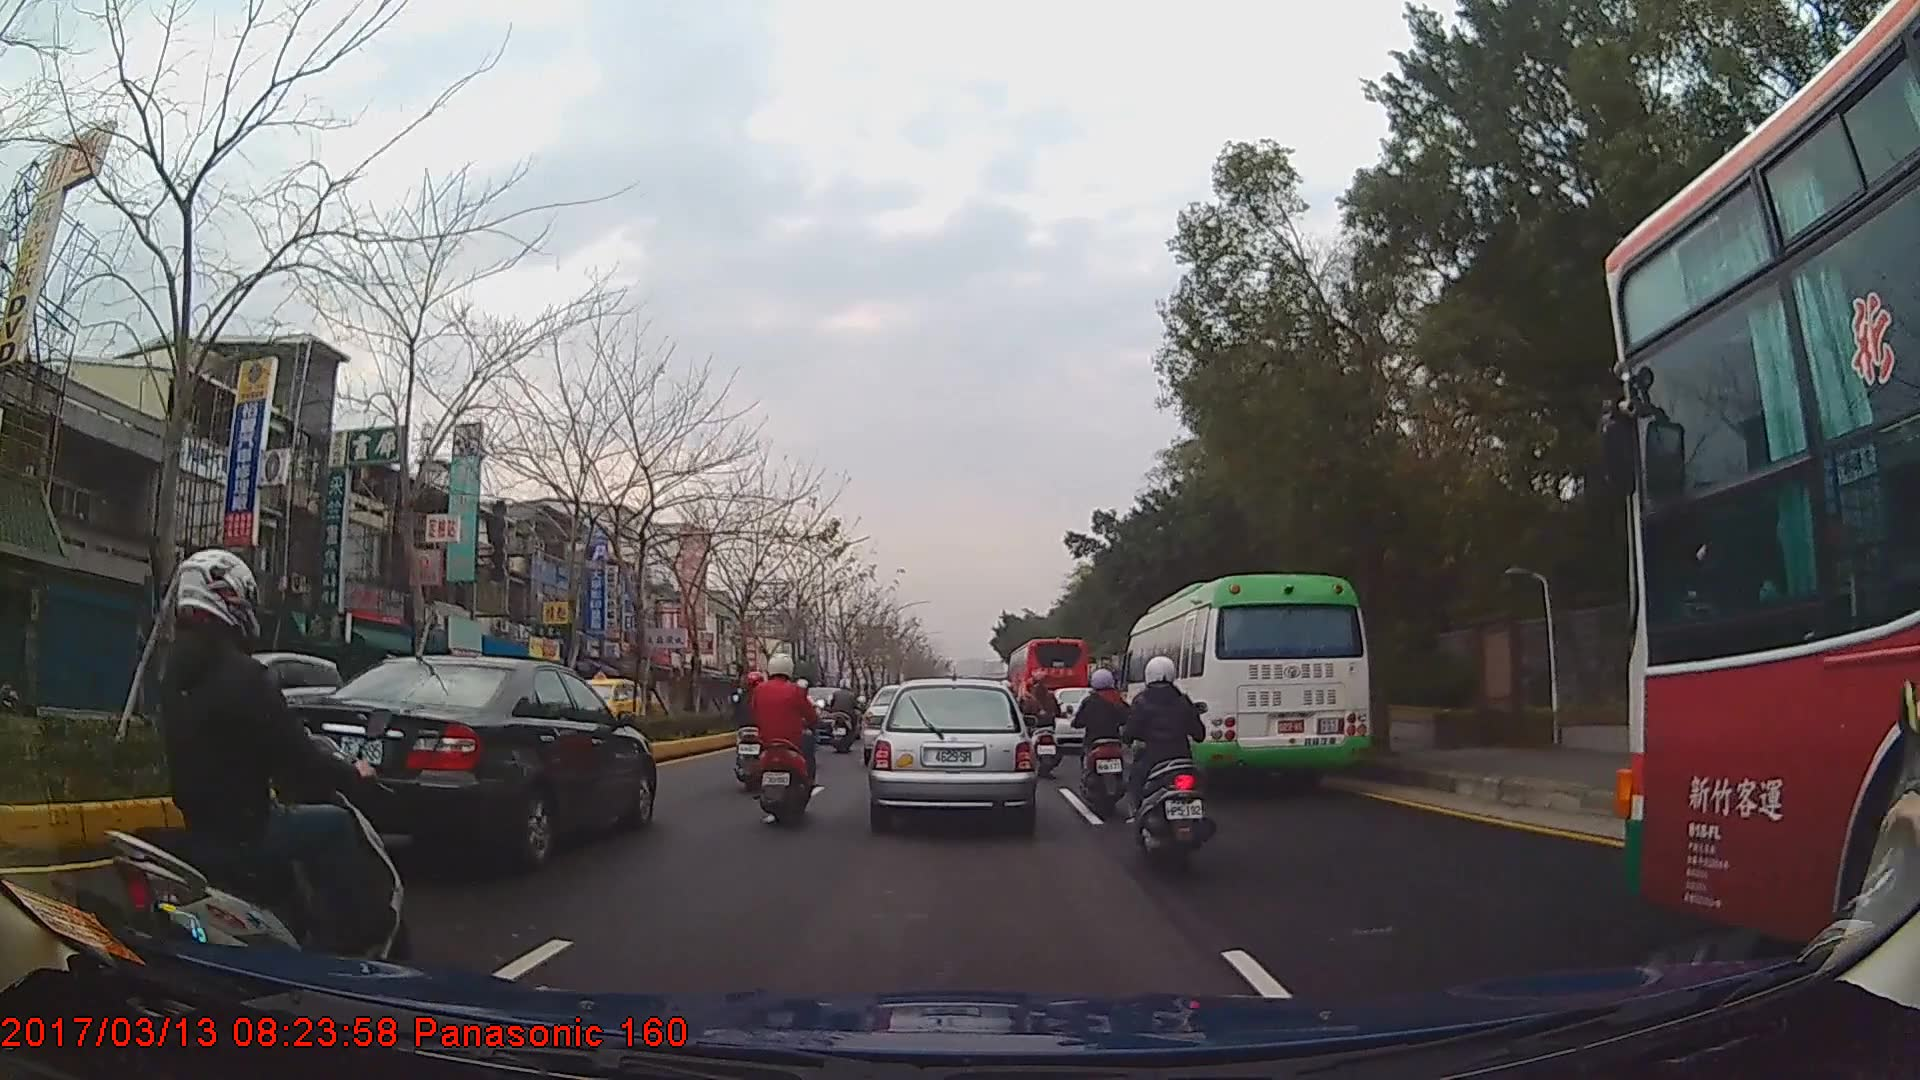rider: (103, 544, 405, 1003), (1128, 653, 1219, 874), (750, 649, 818, 828), (1070, 666, 1136, 817), (1023, 670, 1065, 780), (833, 678, 867, 753)
vehicle: (1604, 0, 1919, 982), (271, 654, 655, 868), (1119, 572, 1376, 791), (871, 677, 1032, 828), (1008, 634, 1092, 730), (546, 667, 656, 736)
